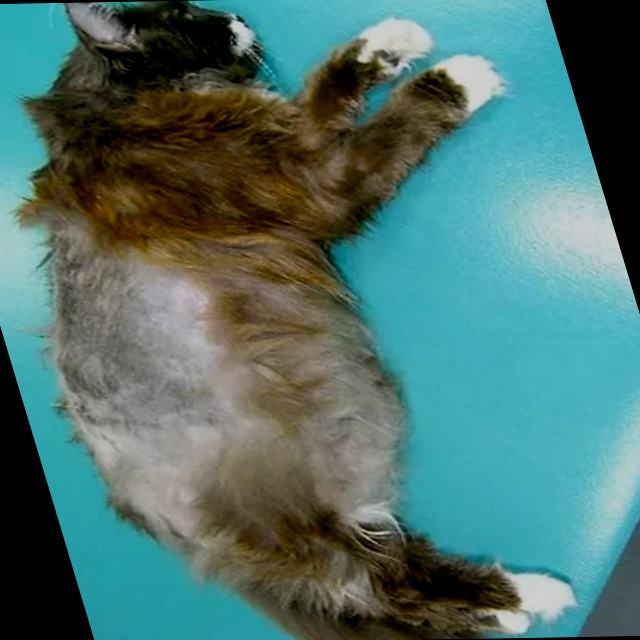hairloss: (34, 246, 254, 535), (255, 301, 406, 503)
